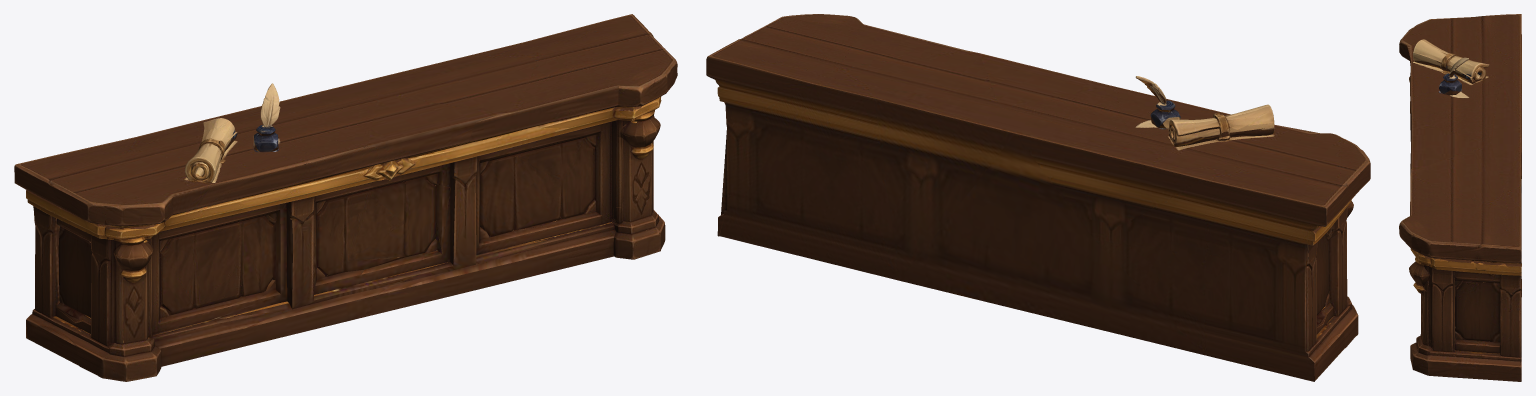
The model's file is reception-desk.glb.
The picture shows the model from 3 angles, left to right: view 1: azimuth 30°, elevation 25°; view 2: azimuth 150°, elevation 25°; view 3: azimuth 270°, elevation 25°; orthographic projection. The views are drawn at different scales.
Visible parts, largest first — view 1: output_unwrapped; view 2: output_unwrapped; view 3: output_unwrapped.
Boxes of the visible parts, x1,y1,x2,y2 form: output_unwrapped: (14, 14, 677, 381); output_unwrapped: (706, 14, 1370, 381); output_unwrapped: (1399, 14, 1521, 381).
Bounding box in the file's own units: 1.9 × 0.6715 × 0.419.
Materials: 1 (1 with a texture image).
